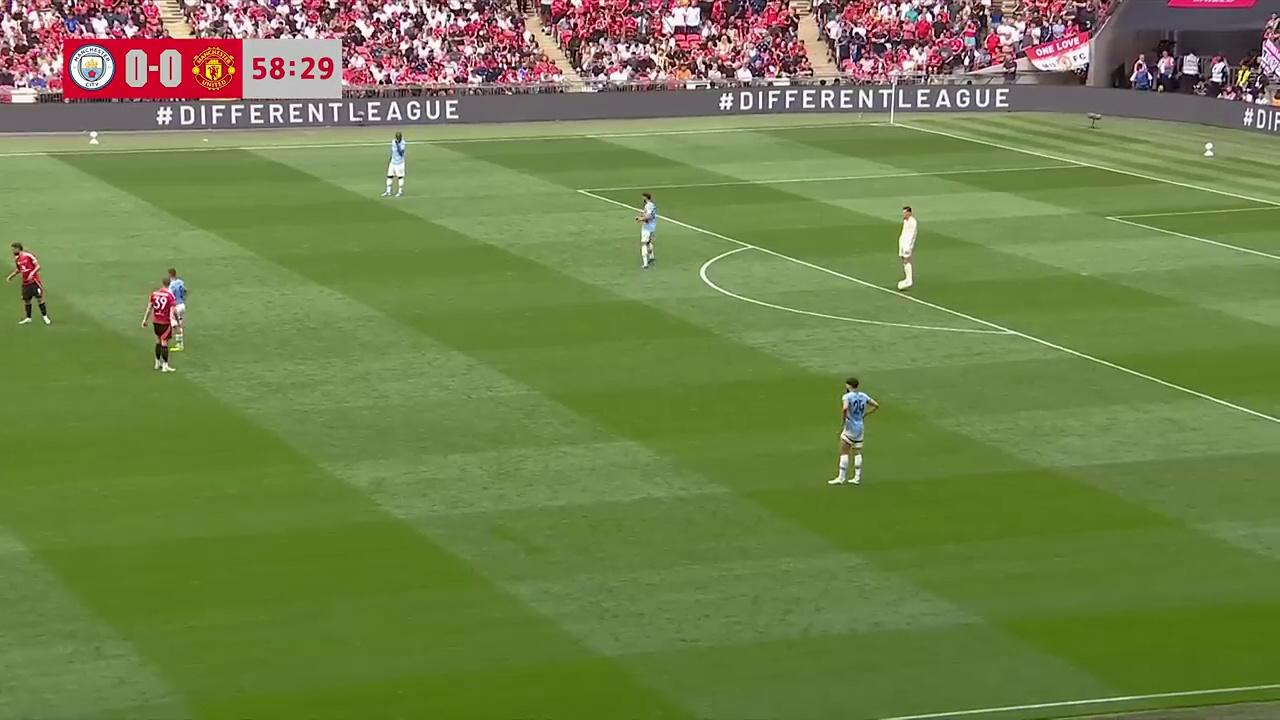player: (832, 377, 878, 485), (5, 243, 50, 325), (141, 276, 175, 372), (160, 267, 187, 354), (635, 192, 657, 268), (897, 206, 917, 288), (383, 132, 407, 197)
